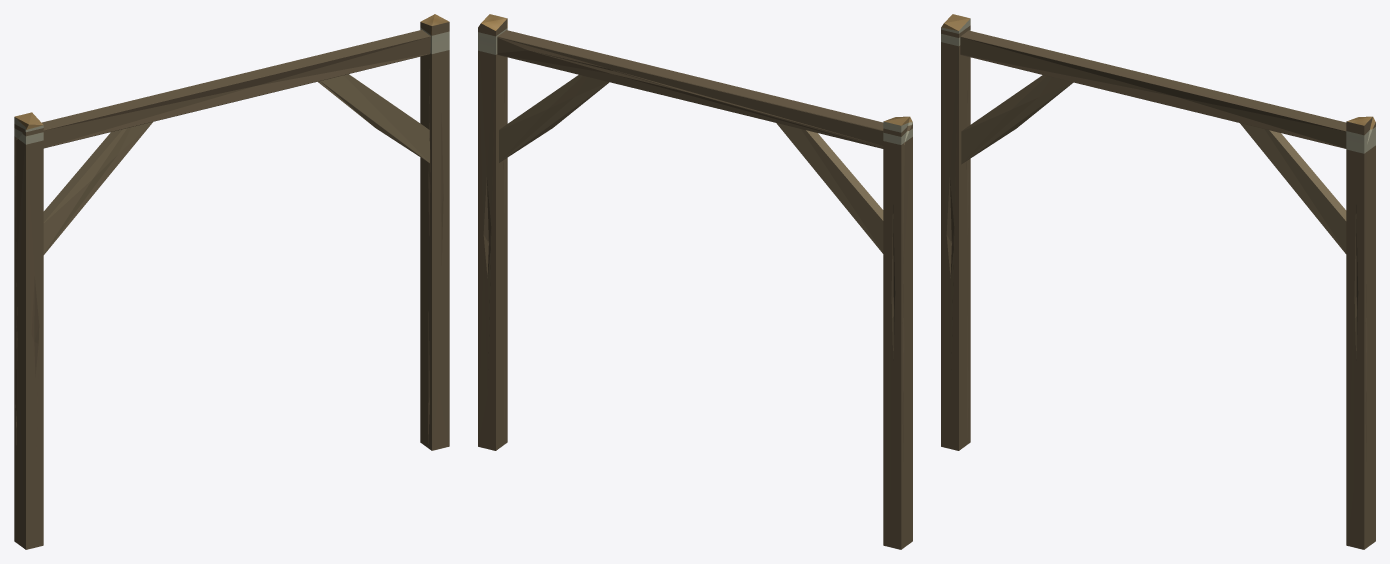
Rendered from Pole_6B.fbx.
3 views of the same model, side by side, from view 1: azimuth 30°, elevation 25°; view 2: azimuth 150°, elevation 25°; view 3: azimuth 330°, elevation 25° (orthographic).
Parts seen in each view (by area): view 1: polySurface9785; view 2: polySurface9785; view 3: polySurface9785.
Part boxes in pixels (x1,y1,x2,y2): polySurface9785: (14, 14, 449, 549); polySurface9785: (478, 14, 912, 549); polySurface9785: (941, 14, 1375, 549).
Bounding box in the file's own units: 837 × 800 × 40.03.
